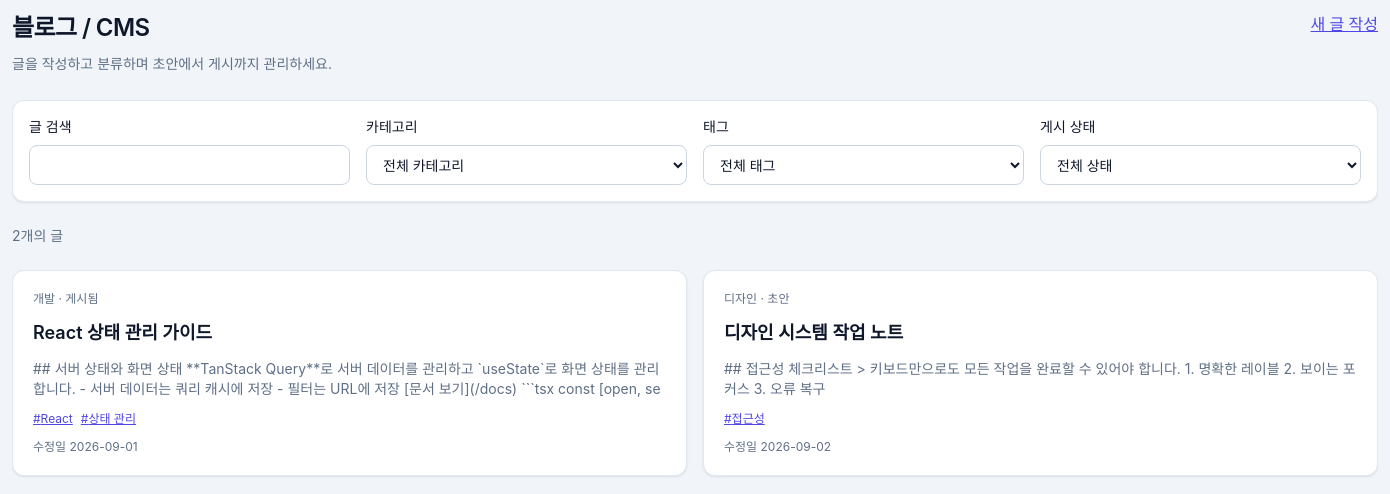
Test: CMS workspace › filters categories, tags, state and search, then resets an empty list
The width and height of the screenshot is (1390, 494).
Expected: the heading "블로그 / CMS" is shown, [12,13,150,42]
Select "디자인" in the dropdown labelled "카테고리": (526, 165) [366,145,687,185]
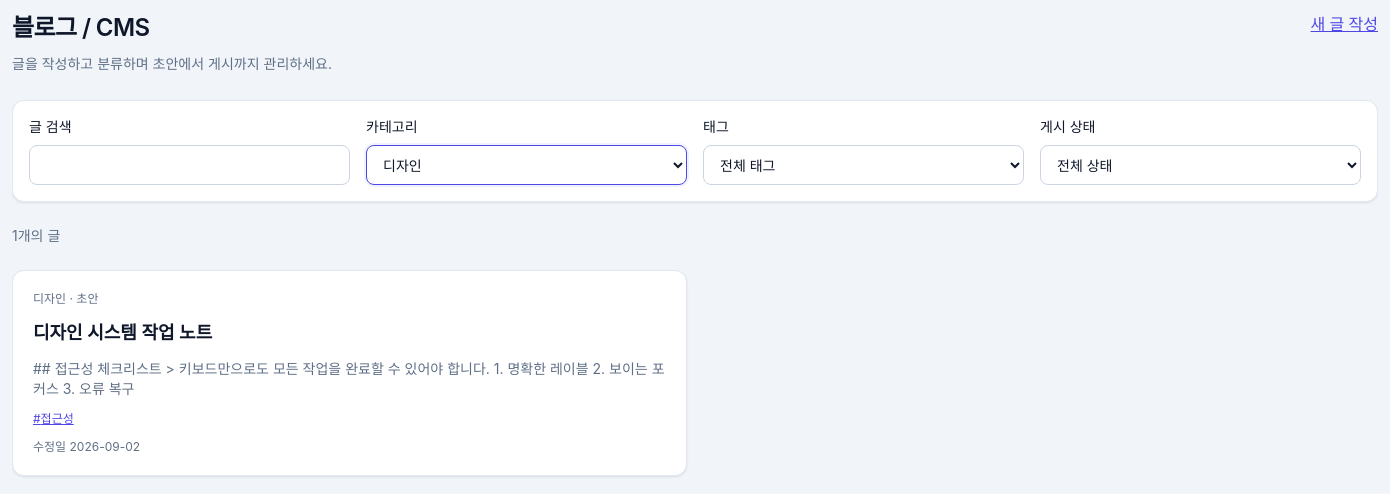
Expected: the link "디자인 시스템 작업 노트" is shown, [33,322,212,343]
Expected: the link "React 상태 관리 가이드" is gone
Select "React" in the dropdown labelled "태그": (864, 165) [703,145,1024,185]
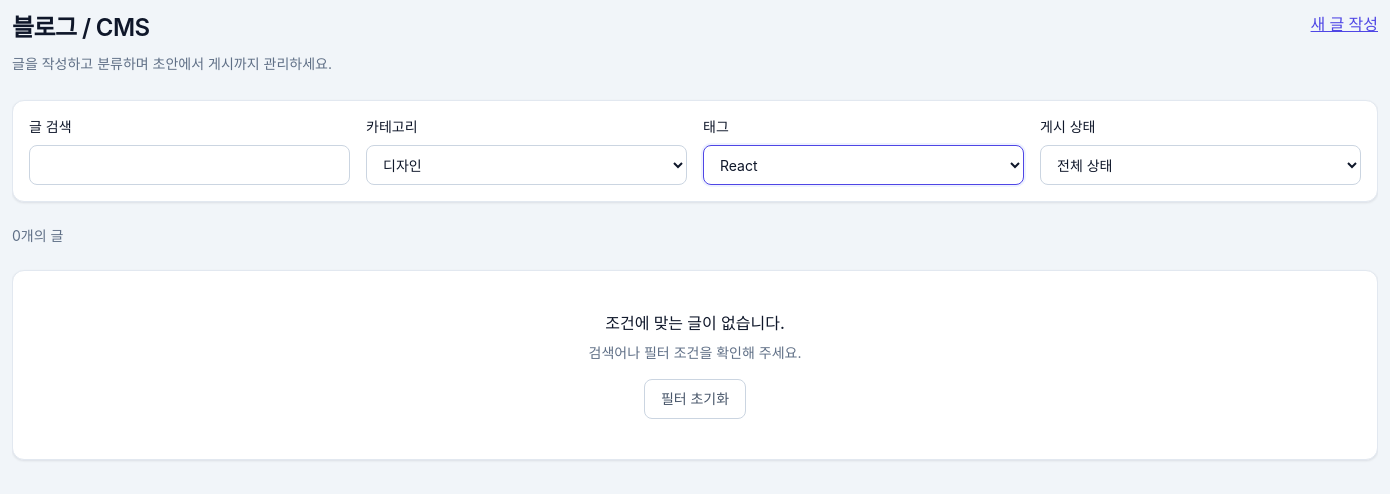
Expected: the text "조건에 맞는 글이 없습니다." is shown, [605,313,785,333]
Click the button "필터 초기화": (695, 399) [644,379,746,419]
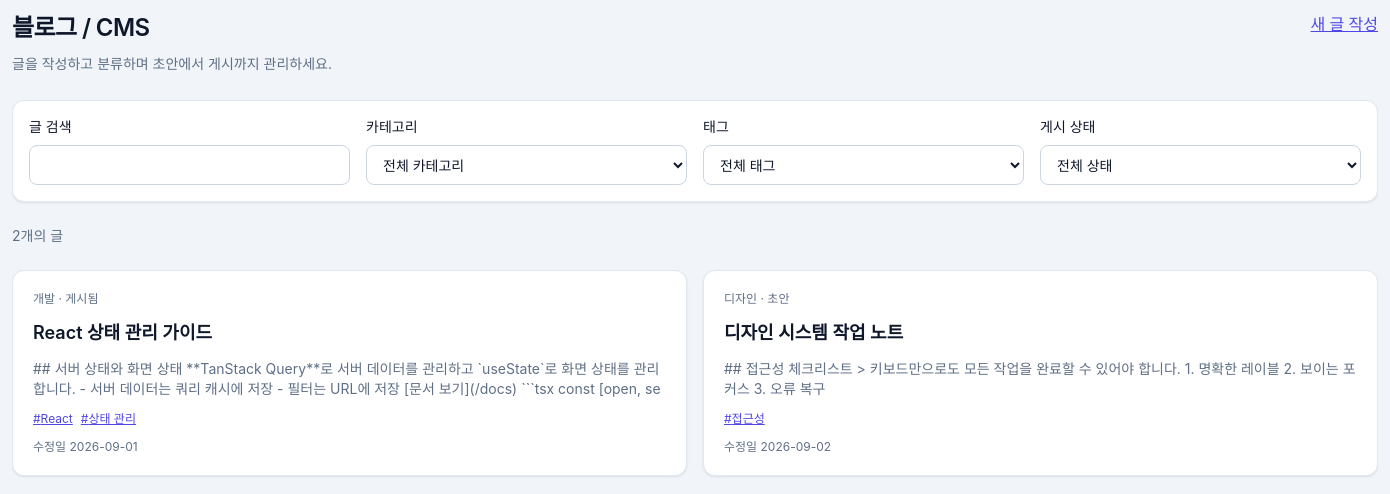
Select "게시됨" in the dropdown labelled "게시 상태": (1200, 165) [1040,145,1361,185]
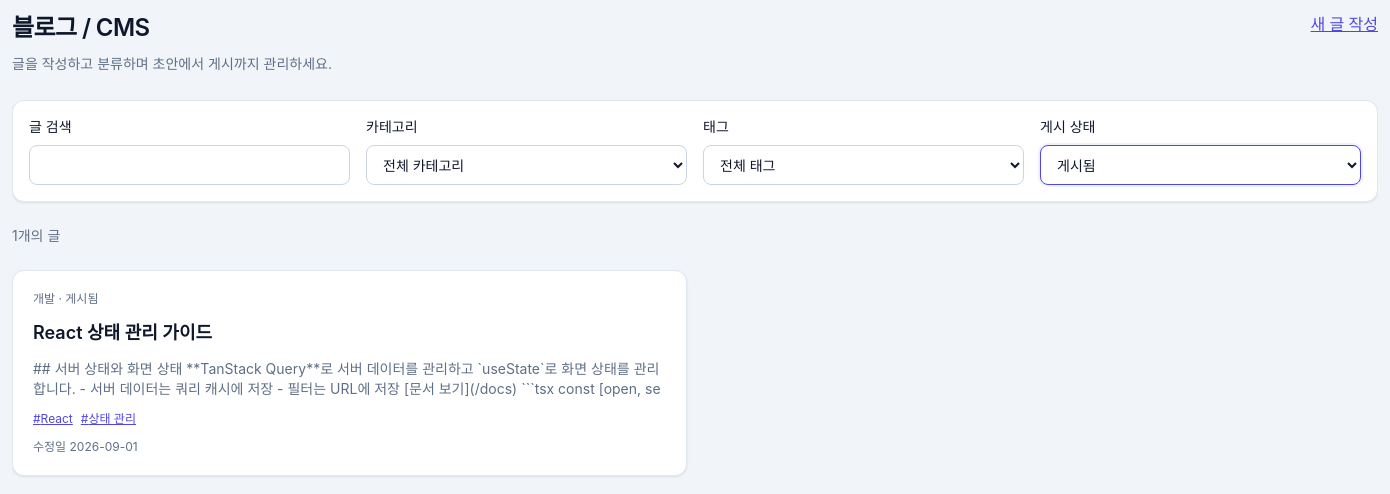
In the field labelled "글 검색": (190, 165) [29,145,350,185], type "없는 글"
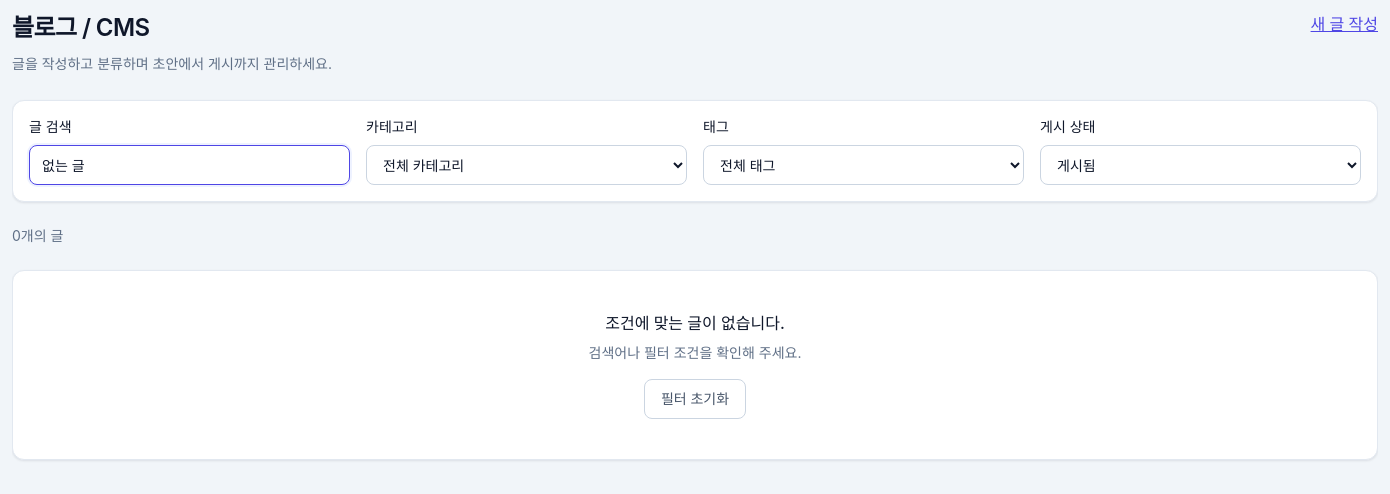
Expected: the text "조건에 맞는 글이 없습니다." is shown, [605,313,785,333]
